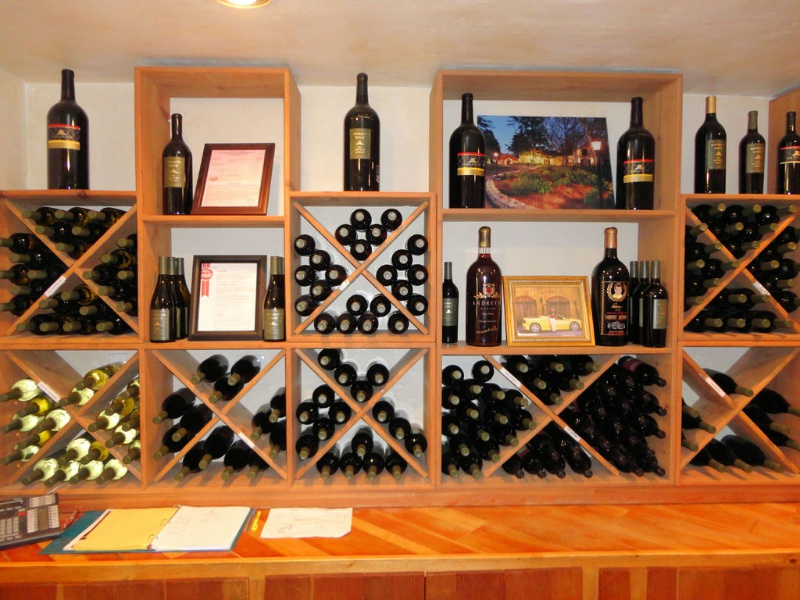wine: (1, 48, 799, 491)
